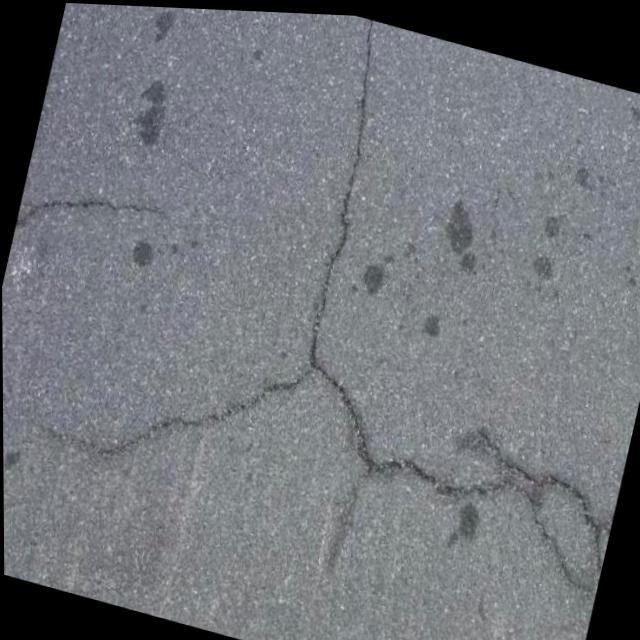Crack: (7, 284, 630, 640), (277, 11, 410, 388), (11, 159, 171, 278)
